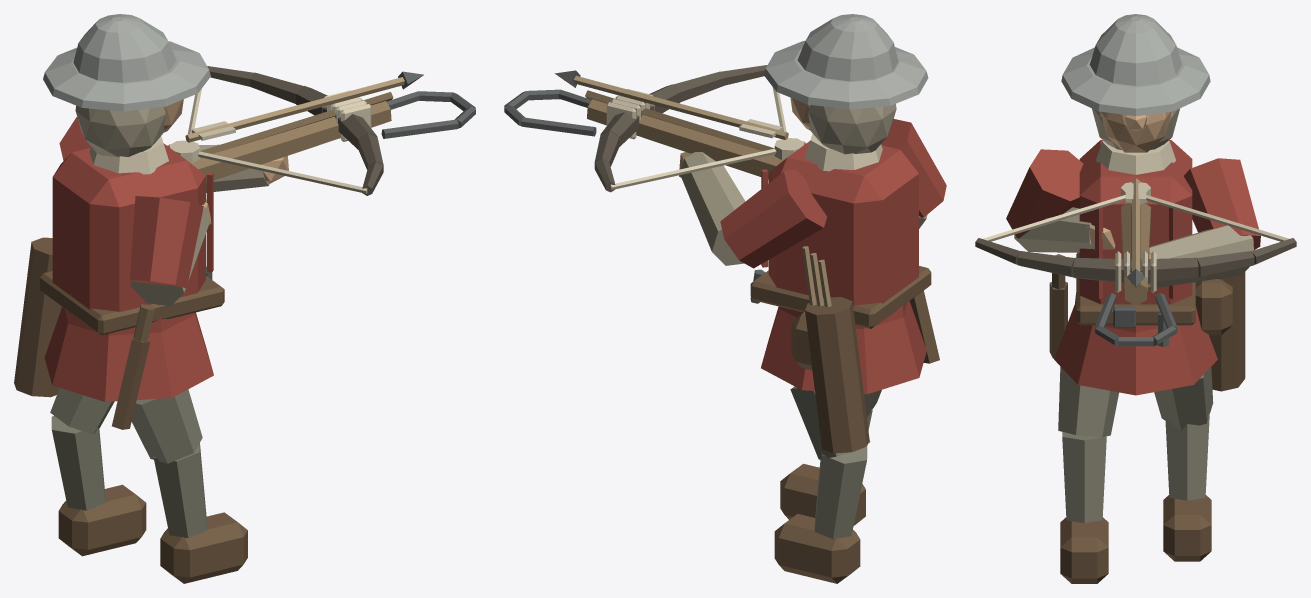
Rendered from infantry_crossbow.glb.
3 views of the same model, side by side, from view 1: azimuth 30°, elevation 25°; view 2: azimuth 150°, elevation 25°; view 3: azimuth 270°, elevation 25° (orthographic). The views are drawn at different scales.
Visible parts, largest first — view 1: infantry_crossbow_team_cloth, infantry_crossbow_leather, infantry_crossbow_hose, infantry_crossbow_steel, infantry_crossbow_padded_linen, infantry_crossbow_linen, infantry_crossbow_oak, infantry_crossbow_bow_horn, infantry_crossbow_iron, infantry_crossbow_oak_light, infantry_crossbow_oak_dark, infantry_crossbow_skin; view 2: infantry_crossbow_team_cloth, infantry_crossbow_leather, infantry_crossbow_steel, infantry_crossbow_padded_linen, infantry_crossbow_hose, infantry_crossbow_linen, infantry_crossbow_bow_horn, infantry_crossbow_oak, infantry_crossbow_oak_light, infantry_crossbow_iron, infantry_crossbow_oak_dark; view 3: infantry_crossbow_team_cloth, infantry_crossbow_leather, infantry_crossbow_hose, infantry_crossbow_steel, infantry_crossbow_padded_linen, infantry_crossbow_bow_horn, infantry_crossbow_linen, infantry_crossbow_skin, infantry_crossbow_iron, infantry_crossbow_oak, infantry_crossbow_oak_light.
Part boxes in pixels (x1,y1,x2,y2): infantry_crossbow_team_cloth: (44, 117, 213, 401); infantry_crossbow_leather: (14, 237, 247, 583); infantry_crossbow_hose: (50, 388, 206, 538); infantry_crossbow_steel: (43, 14, 210, 111); infantry_crossbow_padded_linen: (75, 106, 269, 306); infantry_crossbow_linen: (89, 88, 371, 193); infantry_crossbow_oak: (191, 101, 391, 182); infantry_crossbow_bow_horn: (207, 66, 383, 195); infantry_crossbow_iron: (206, 71, 475, 279); infantry_crossbow_oak_light: (185, 77, 414, 142); infantry_crossbow_oak_dark: (133, 92, 393, 341); infantry_crossbow_skin: (163, 99, 288, 224); infantry_crossbow_team_cloth: (720, 119, 946, 394); infantry_crossbow_leather: (750, 266, 939, 583); infantry_crossbow_steel: (764, 14, 928, 109); infantry_crossbow_padded_linen: (680, 104, 927, 265); infantry_crossbow_hose: (790, 386, 881, 539); infantry_crossbow_linen: (606, 87, 882, 189); infantry_crossbow_bow_horn: (594, 65, 767, 192); infantry_crossbow_oak: (587, 99, 783, 179); infantry_crossbow_oak_light: (564, 75, 831, 306); infantry_crossbow_iron: (504, 70, 765, 303); infantry_crossbow_oak_dark: (585, 90, 774, 150); infantry_crossbow_team_cloth: (1006, 140, 1260, 395); infantry_crossbow_leather: (1049, 253, 1245, 583); infantry_crossbow_hose: (1058, 366, 1213, 523); infantry_crossbow_steel: (1061, 14, 1210, 115); infantry_crossbow_padded_linen: (1014, 108, 1253, 288); infantry_crossbow_bow_horn: (975, 238, 1296, 283); infantry_crossbow_linen: (982, 140, 1289, 293); infantry_crossbow_skin: (1086, 111, 1171, 286); infantry_crossbow_iron: (1094, 269, 1177, 346); infantry_crossbow_oak: (1121, 203, 1150, 305); infantry_crossbow_oak_light: (1132, 178, 1139, 284).
Size of the model in its own units: 1.42 by 1.8 by 0.9989.
